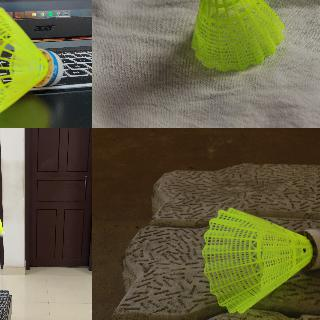shuttlecock: (201, 208, 319, 315), (0, 1, 63, 125), (191, 0, 285, 71), (0, 218, 5, 237)
